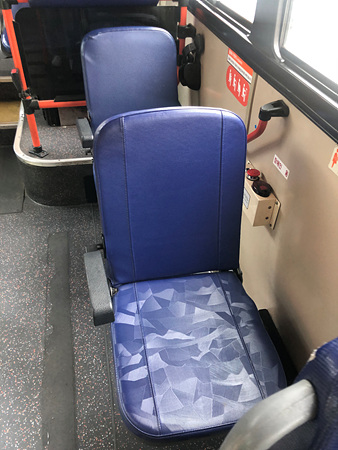seat: (96, 106, 277, 424)
